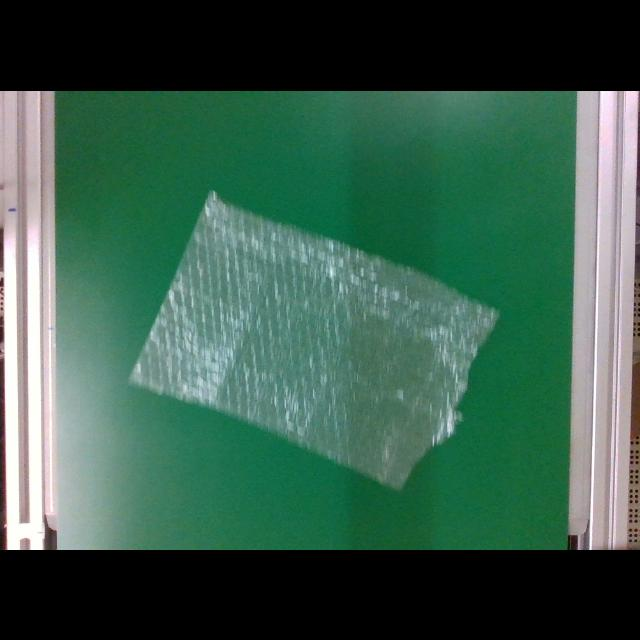scrap_plastic: (126, 187, 500, 497), (128, 184, 502, 492), (127, 187, 499, 488)
